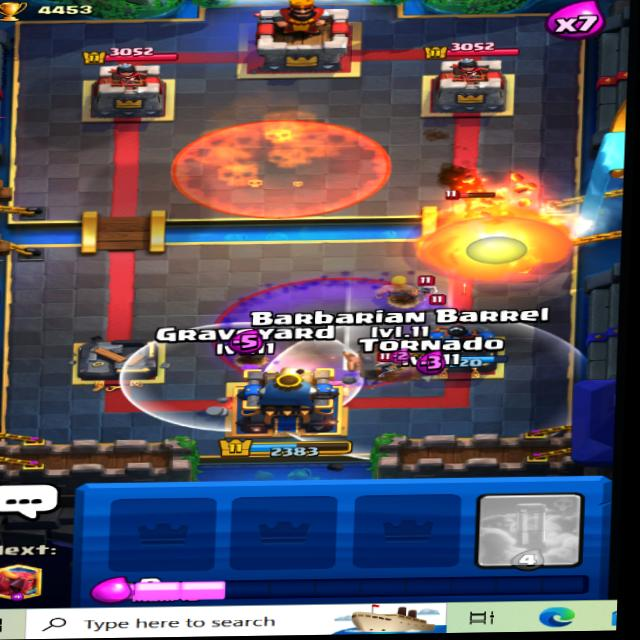graveyard: (216, 269, 465, 393)
poison: (166, 113, 392, 224)
skeleton: (226, 337, 273, 371), (367, 350, 405, 375), (409, 275, 437, 299)
